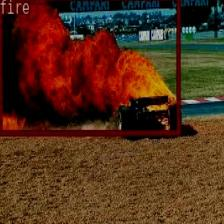fire: (0, 0, 179, 134)
